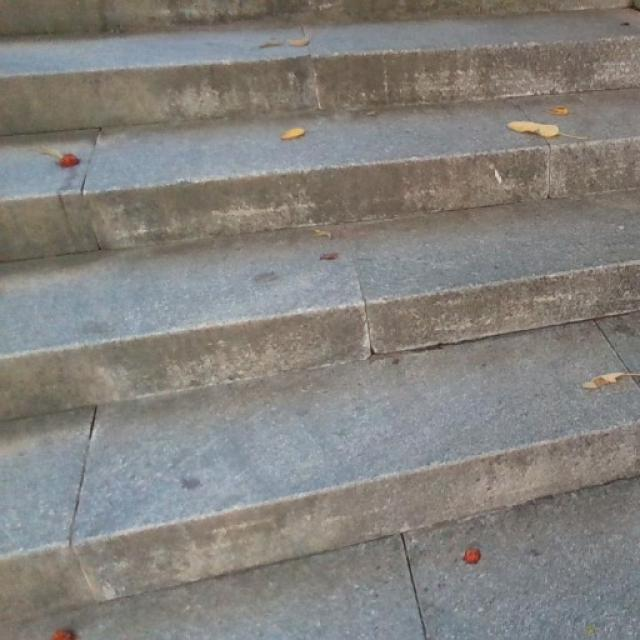Stairs: (0, 2, 639, 632)
